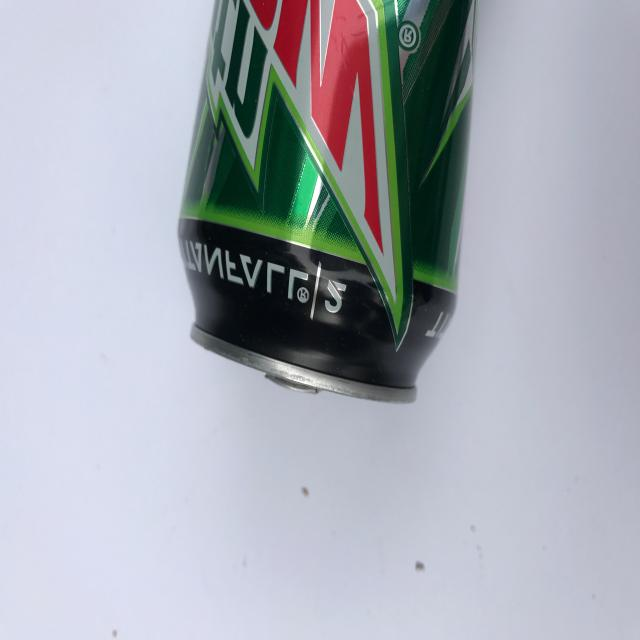metal: (177, 0, 479, 403)
